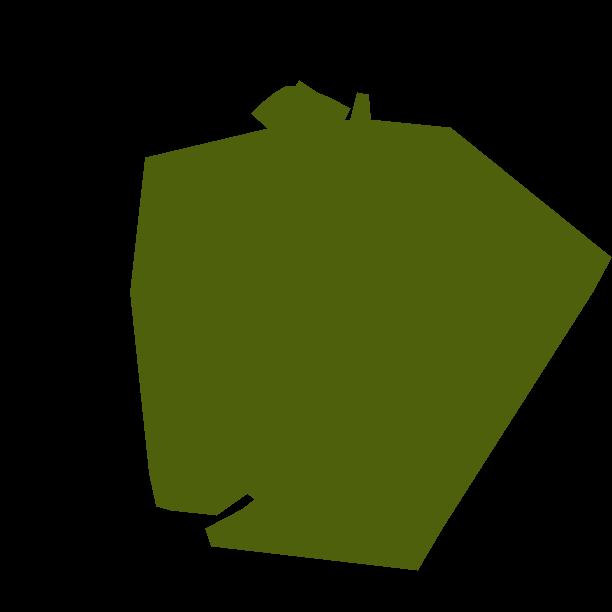Train: (130, 80, 612, 570)
